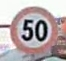limite 50: (9, 6, 58, 53)
